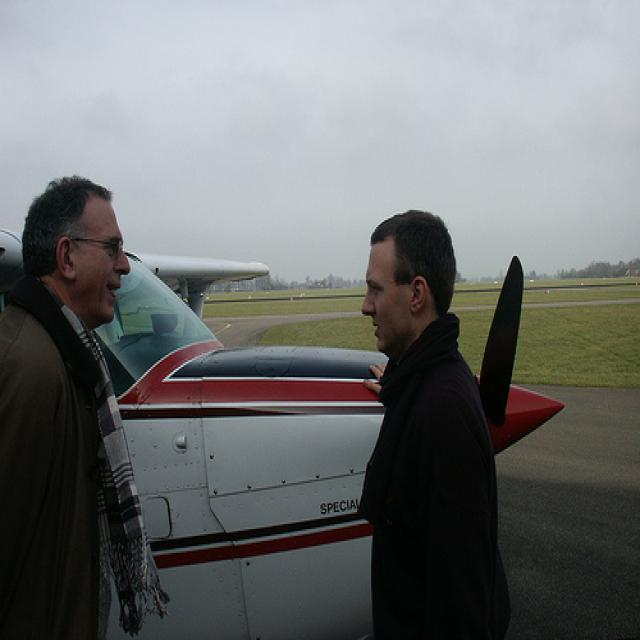aeroplane: (1, 225, 567, 639)
person: (1, 175, 146, 639), (358, 208, 507, 640)
